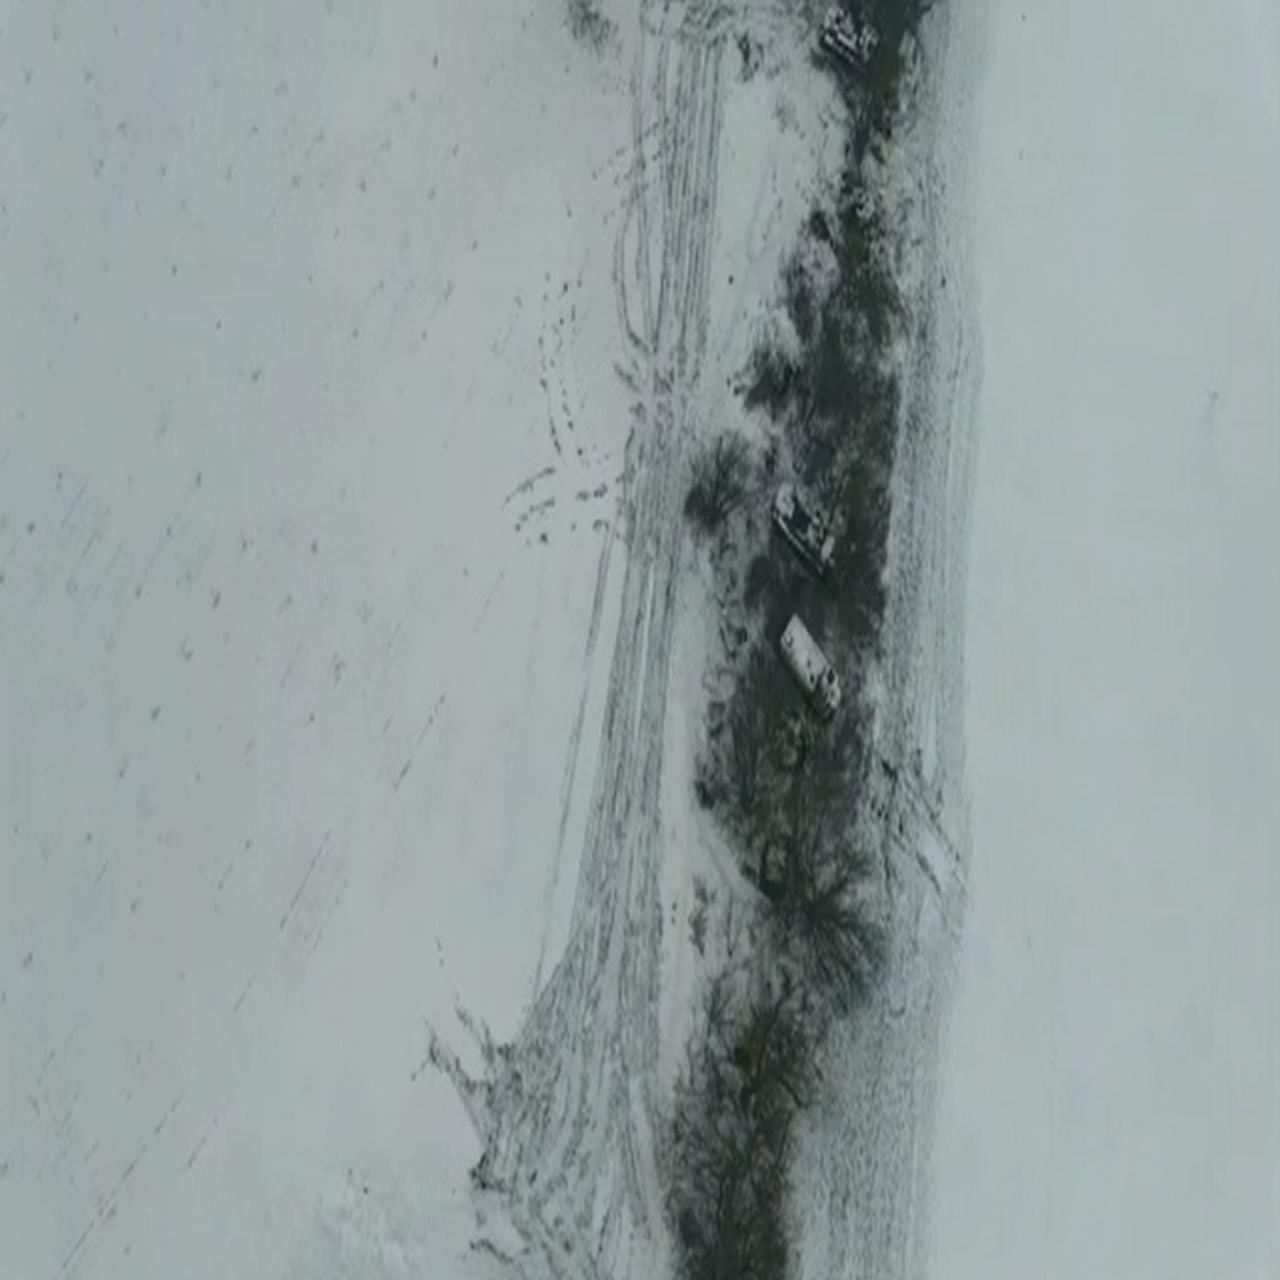MIL_Veh: (812, 0, 878, 64)
